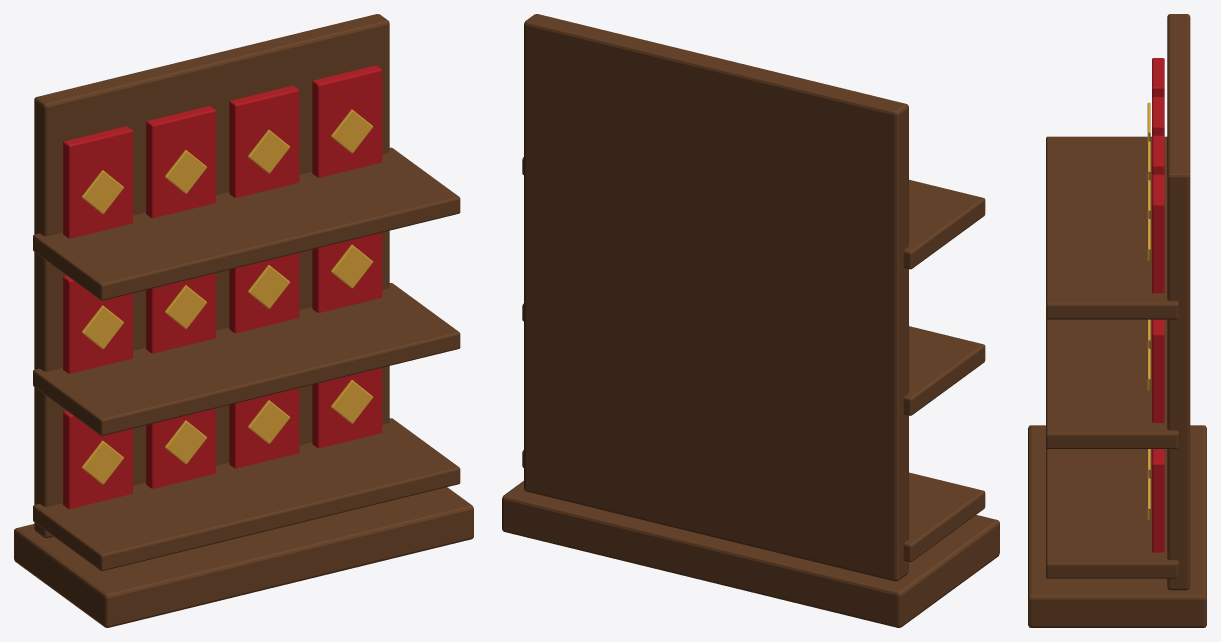
The picture shows the model from 3 angles, left to right: view 1: azimuth 30°, elevation 25°; view 2: azimuth 150°, elevation 25°; view 3: azimuth 270°, elevation 25°; orthographic projection. The views are drawn at different scales.
Visible parts, largest first — view 1: DISPLAY_Back, DISPLAY_Ledge.001, DISPLAY_Ledge, DISPLAY_Ledge.002, DISPLAY_Base, PACKET_2_3, PACKET_2_2, PACKET_2_0, PACKET_2_1, PACKET_0_0, PACKET_1_0, PACKET_0_2 (+17 smaller); view 2: DISPLAY_Back, DISPLAY_Base, DISPLAY_Ledge.002, DISPLAY_Ledge, DISPLAY_Ledge.001; view 3: DISPLAY_Ledge.002, DISPLAY_Ledge, DISPLAY_Ledge.001, DISPLAY_Base, DISPLAY_Back, PACKET_2_3, PACKET_0_3, PACKET_1_3, PACKET_2_2, PACKET_2_0, PACKET_2_1.
Boxes of the visible parts, x1,y1,x2,y2 form: DISPLAY_Back: [34, 14, 389, 538]; DISPLAY_Ledge.001: [33, 283, 460, 435]; DISPLAY_Ledge: [33, 418, 460, 570]; DISPLAY_Ledge.002: [33, 147, 460, 300]; DISPLAY_Base: [14, 487, 473, 627]; PACKET_2_3: [312, 65, 382, 177]; PACKET_2_2: [229, 85, 299, 197]; PACKET_2_0: [63, 126, 132, 238]; PACKET_2_1: [146, 106, 215, 218]; PACKET_0_0: [63, 411, 132, 508]; PACKET_1_0: [63, 276, 132, 373]; PACKET_0_2: [229, 388, 299, 468]; DISPLAY_Back: [524, 14, 908, 581]; DISPLAY_Base: [502, 481, 999, 627]; DISPLAY_Ledge.002: [522, 157, 985, 269]; DISPLAY_Ledge: [522, 450, 985, 562]; DISPLAY_Ledge.001: [522, 303, 985, 415]; DISPLAY_Ledge.002: [1046, 136, 1178, 319]; DISPLAY_Ledge: [1046, 448, 1178, 578]; DISPLAY_Ledge.001: [1046, 318, 1178, 448]; DISPLAY_Base: [1028, 425, 1206, 627]; DISPLAY_Back: [1167, 14, 1190, 590]; PACKET_2_3: [1152, 174, 1164, 293]; PACKET_0_3: [1152, 449, 1164, 552]; PACKET_1_3: [1152, 319, 1164, 422]; PACKET_2_2: [1152, 135, 1164, 175]; PACKET_2_0: [1152, 58, 1164, 97]; PACKET_2_1: [1152, 97, 1164, 136].
Bounding box in the file's own units: 0.8 × 0.97 × 0.35.
